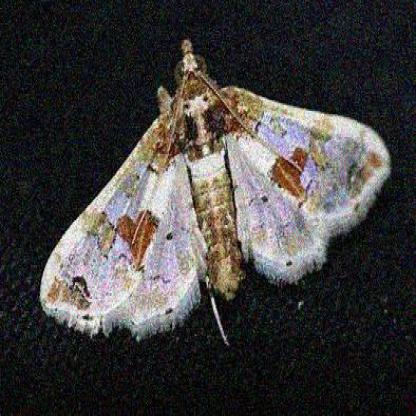leucinodes: (40, 41, 389, 341)
